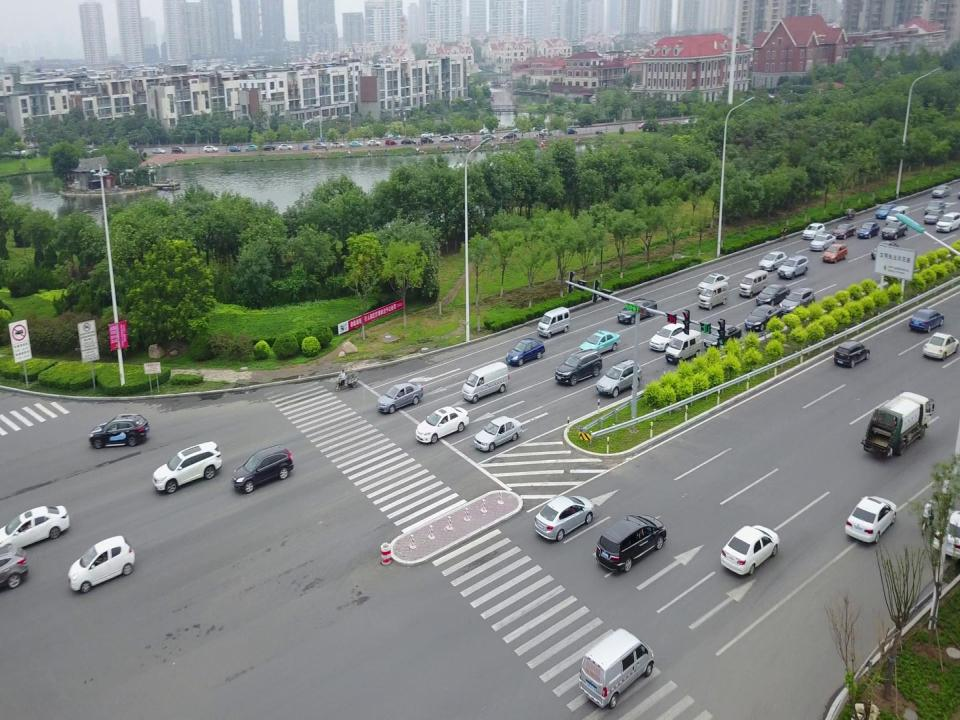car: (66, 535, 136, 594), (596, 514, 666, 572), (152, 441, 222, 494), (0, 505, 70, 554), (231, 444, 293, 494), (720, 525, 780, 576), (534, 495, 594, 542), (844, 495, 896, 545), (89, 413, 151, 450), (414, 406, 470, 445), (554, 348, 603, 387), (595, 359, 642, 398), (474, 415, 522, 453), (377, 382, 423, 415), (931, 509, 960, 559), (0, 543, 27, 592), (578, 330, 620, 359), (648, 322, 687, 353), (505, 338, 545, 368), (922, 332, 960, 362), (834, 338, 870, 368), (618, 298, 658, 325), (779, 286, 815, 316), (704, 324, 742, 352), (745, 304, 782, 332), (908, 307, 944, 333), (756, 284, 790, 308), (777, 254, 809, 279), (697, 273, 730, 294), (758, 250, 788, 273), (881, 219, 908, 241), (871, 240, 898, 261), (822, 243, 848, 264), (936, 211, 959, 233), (810, 233, 836, 252), (801, 222, 826, 240), (832, 223, 858, 240), (858, 221, 880, 239), (924, 199, 946, 217), (876, 203, 898, 220), (923, 209, 945, 225), (932, 184, 952, 198), (479, 126, 495, 135), (203, 146, 219, 154), (330, 141, 346, 149), (366, 139, 382, 147), (439, 135, 455, 143), (172, 146, 186, 154), (278, 143, 294, 150), (348, 141, 364, 148), (401, 139, 417, 146), (481, 134, 497, 141), (538, 129, 554, 136), (564, 127, 578, 135), (638, 122, 652, 130), (682, 118, 696, 126), (312, 142, 327, 149), (458, 135, 473, 142), (502, 132, 517, 139), (152, 147, 166, 154), (387, 133, 401, 140), (420, 137, 434, 144), (420, 131, 434, 138), (446, 135, 460, 142), (229, 145, 241, 153), (246, 144, 258, 152), (260, 145, 276, 151), (385, 139, 397, 146)
truck: (860, 391, 935, 458), (885, 205, 910, 229)
van: (579, 628, 655, 709), (462, 362, 509, 404), (666, 328, 702, 364), (537, 306, 571, 339), (698, 280, 729, 310), (739, 269, 769, 299)
